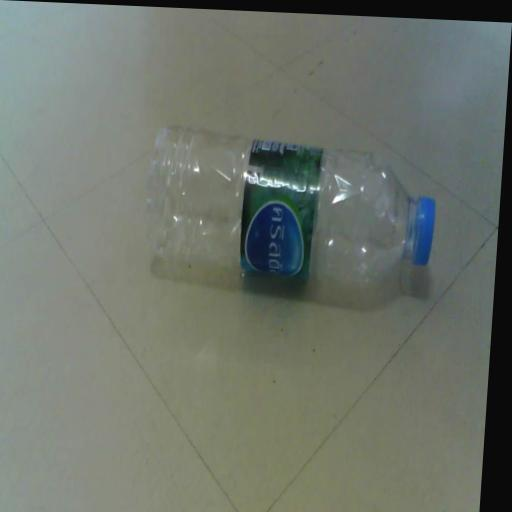bottle: (126, 104, 446, 320)
